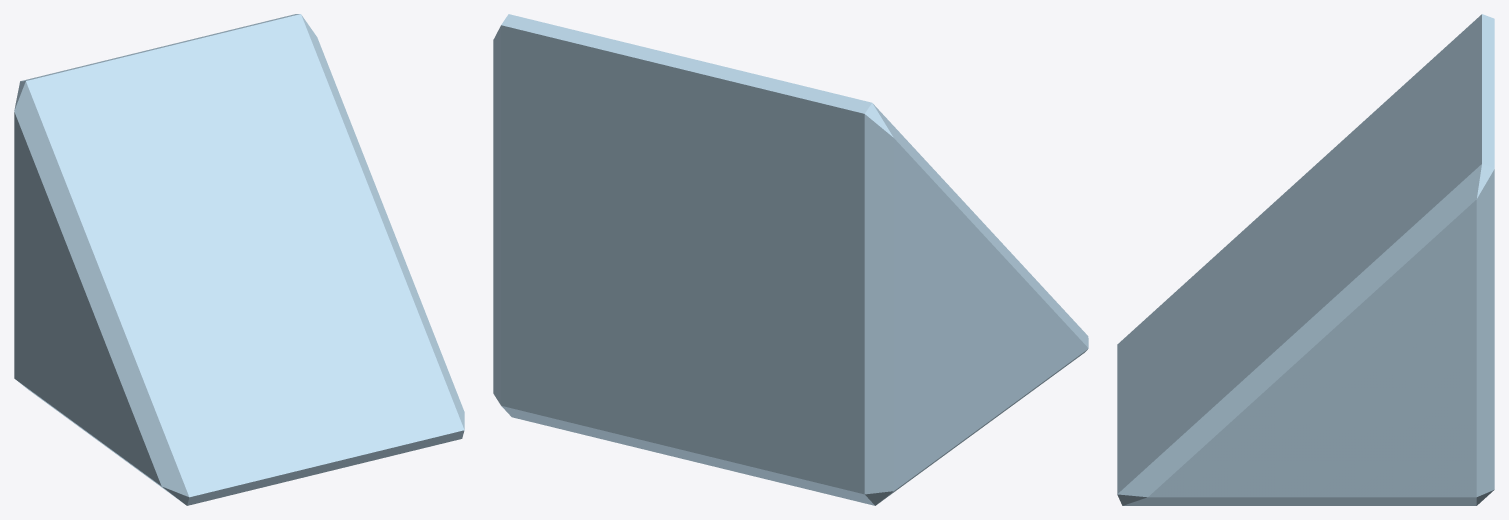
File: R4B_Wedge_LOD1.glb
The picture shows the model from 3 angles, left to right: view 1: azimuth 30°, elevation 25°; view 2: azimuth 150°, elevation 25°; view 3: azimuth 270°, elevation 25°; orthographic projection. The views are drawn at different scales.
Visible parts, largest first — view 1: R4B_Wedge_LOD1; view 2: R4B_Wedge_LOD1; view 3: R4B_Wedge_LOD1.
Boxes of the visible parts, bbox=[...] form: R4B_Wedge_LOD1: bbox=[14, 14, 464, 505]; R4B_Wedge_LOD1: bbox=[493, 14, 1088, 505]; R4B_Wedge_LOD1: bbox=[1117, 14, 1494, 505].
Size of the model in its own units: 0.52 by 0.503 by 0.503.
